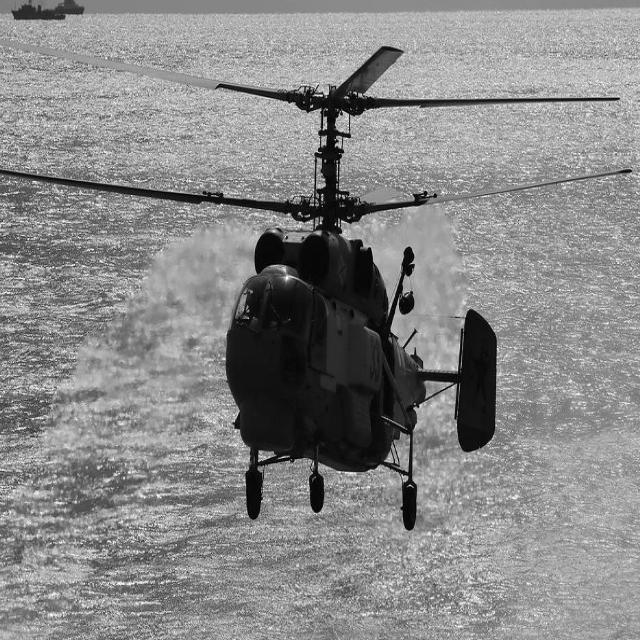helicopter: (46, 1, 617, 530)
